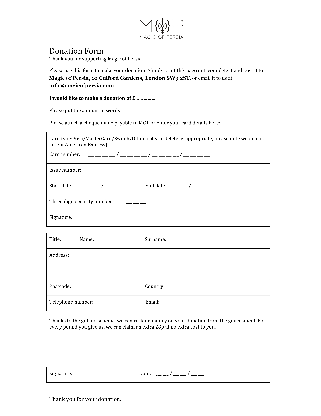textbox: (45, 247, 272, 281), (46, 208, 272, 228), (45, 231, 273, 250), (45, 278, 272, 297), (45, 162, 272, 180), (45, 294, 272, 312), (45, 366, 139, 384)
textline: (88, 148, 216, 158), (154, 368, 206, 377), (116, 148, 150, 160), (150, 148, 183, 159), (183, 148, 216, 159), (88, 148, 116, 160), (174, 180, 206, 189), (86, 181, 119, 189), (136, 92, 157, 101), (125, 197, 148, 205), (172, 368, 188, 378), (154, 368, 170, 377), (174, 180, 189, 189), (190, 368, 205, 377), (86, 181, 102, 189), (103, 181, 119, 189), (192, 181, 206, 189), (197, 148, 205, 159), (134, 148, 141, 160), (141, 148, 148, 160), (101, 148, 109, 158), (172, 368, 180, 378), (109, 148, 116, 159), (151, 148, 158, 159), (159, 148, 166, 159), (166, 148, 173, 159), (173, 148, 180, 159), (180, 367, 187, 378), (127, 148, 133, 160), (191, 148, 197, 160), (205, 148, 211, 160), (162, 368, 170, 377), (95, 148, 102, 158), (191, 368, 198, 378), (120, 148, 126, 159), (184, 148, 190, 159), (111, 181, 119, 189), (125, 197, 133, 205), (88, 149, 95, 158), (174, 180, 181, 189), (94, 181, 101, 189), (104, 181, 111, 189), (181, 181, 188, 189), (192, 181, 199, 189), (155, 369, 162, 377), (198, 369, 205, 377), (87, 182, 94, 189), (133, 198, 140, 205), (140, 198, 147, 205), (199, 181, 205, 189)
